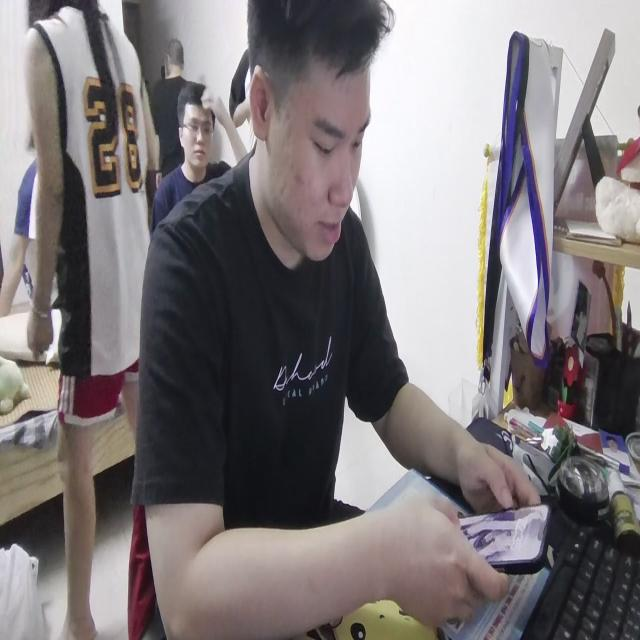extra_person: (20, 0, 164, 640), (148, 80, 242, 212)
phone: (454, 496, 553, 580)
student: (133, 0, 540, 637)
